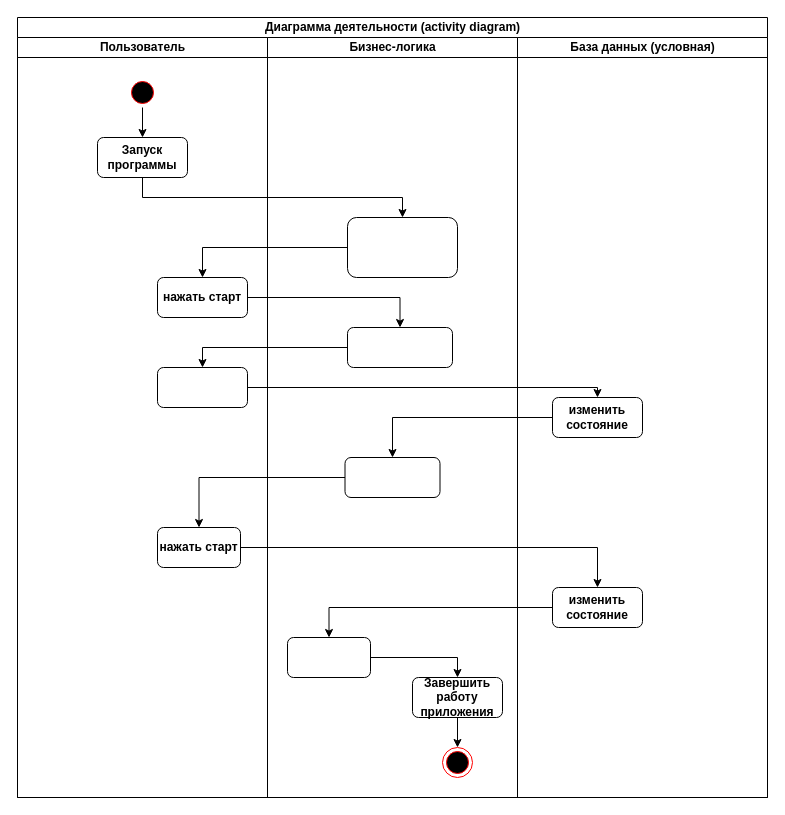
Image size: 785x815. Some labels were removed from this diagram. Here are the shapes that lost their labels. From the top down, the centre of each, then its label:
(402,247): Отображение окна управления
(399,347): начало работы приложения
(202,387): нажать пауза
(392,477): приостановить работу системы
(328,657): возобновить работу системы
